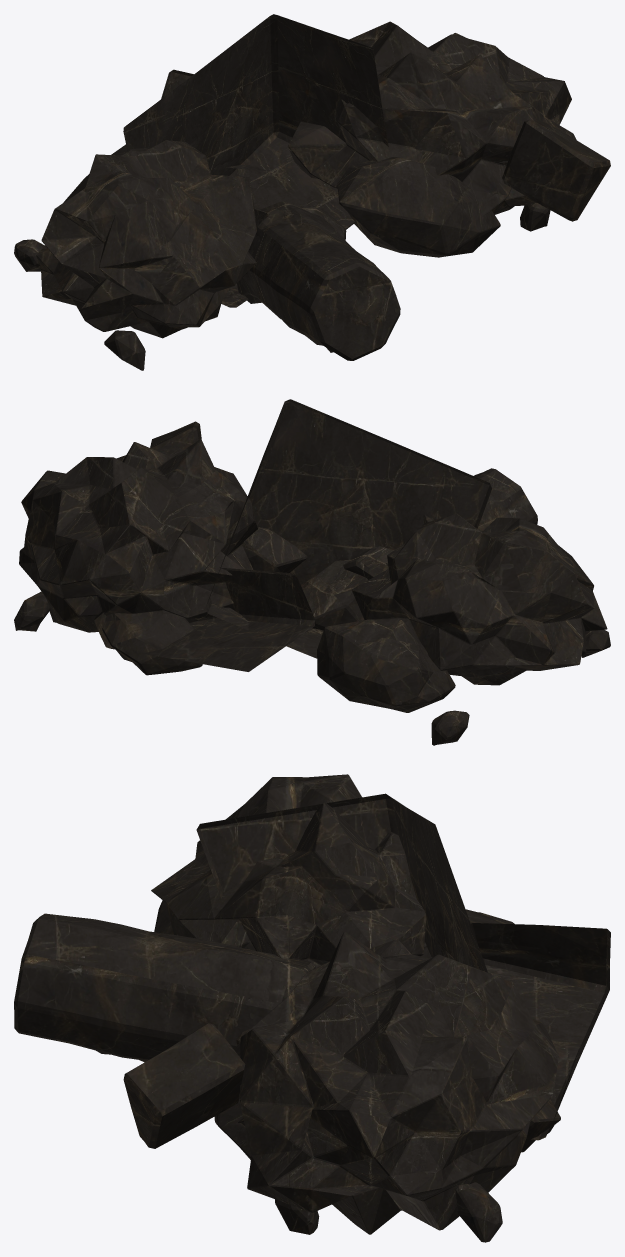
File: ruin_rubble_large.glb
The picture shows the model from 3 angles, top to bottom: view 1: azimuth 30°, elevation 25°; view 2: azimuth 150°, elevation 25°; view 3: azimuth 270°, elevation 25°; orthographic projection. The views are drawn at different scales.
Visible parts, largest first — view 1: ruin_rubble_large; view 2: ruin_rubble_large; view 3: ruin_rubble_large.
Part boxes in pixels (<box>): ruin_rubble_large: <box>14,14,610,370</box>; ruin_rubble_large: <box>14,399,610,745</box>; ruin_rubble_large: <box>14,774,610,1242</box>.
Size of the model in its own units: 4 by 1.55 by 3.
Materials: 1 (1 with a texture image).
